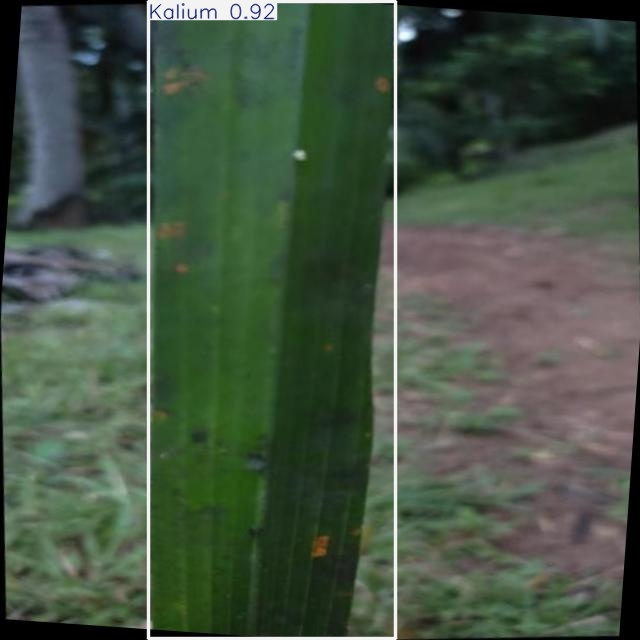Kalium: (148, 1, 396, 639)
